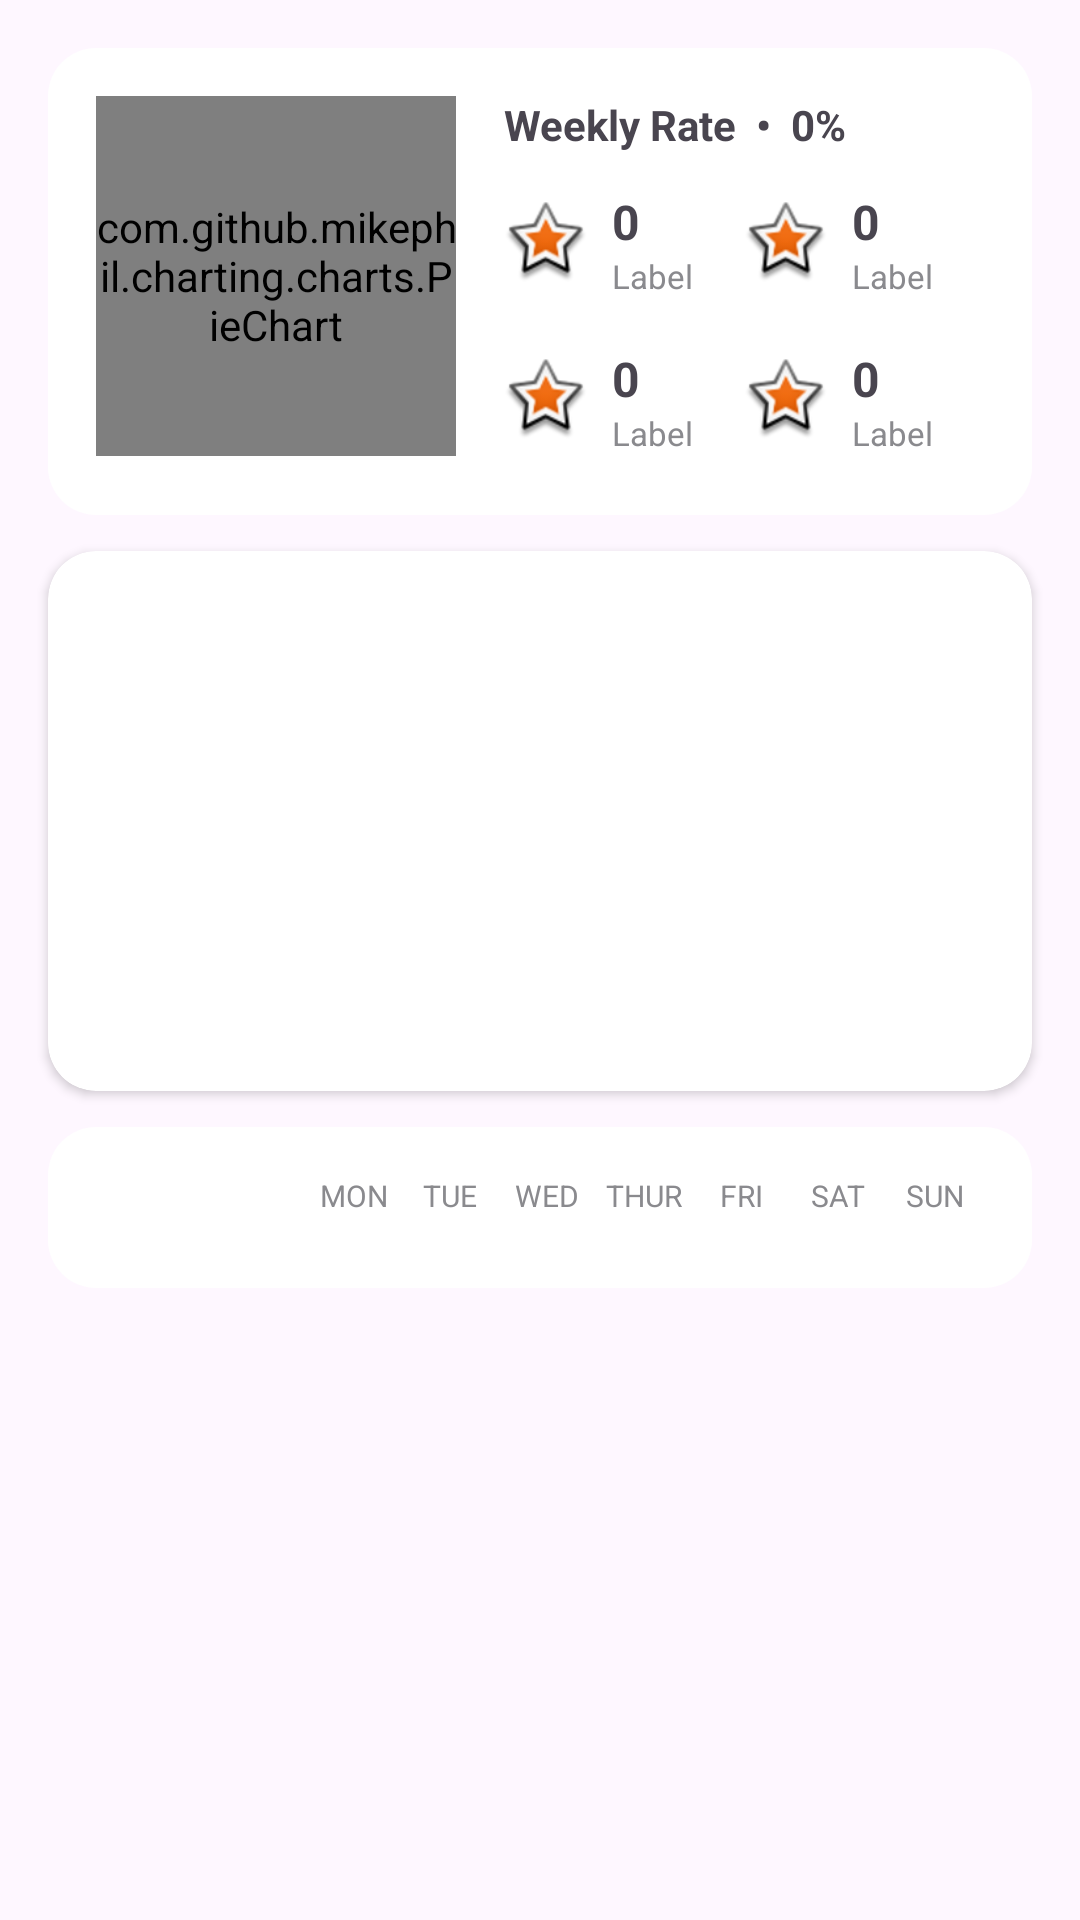

Point at icon controls on the screen. Image size 1080px x 1920px, points as (x,y).
star on: (546,240), (786,240), (546,397), (786,397)
